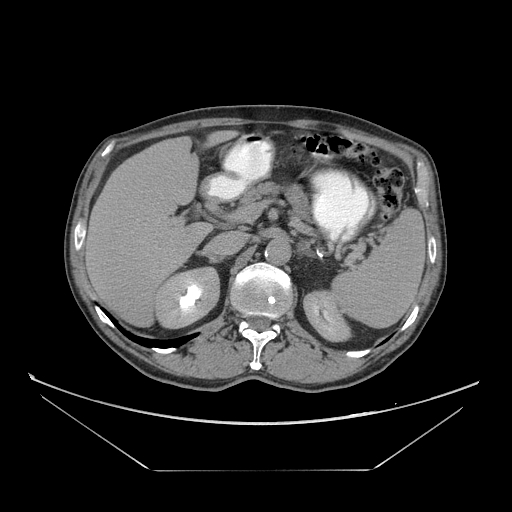left_kidney: (150, 261, 226, 333)
right_kidney: (297, 285, 356, 345)
